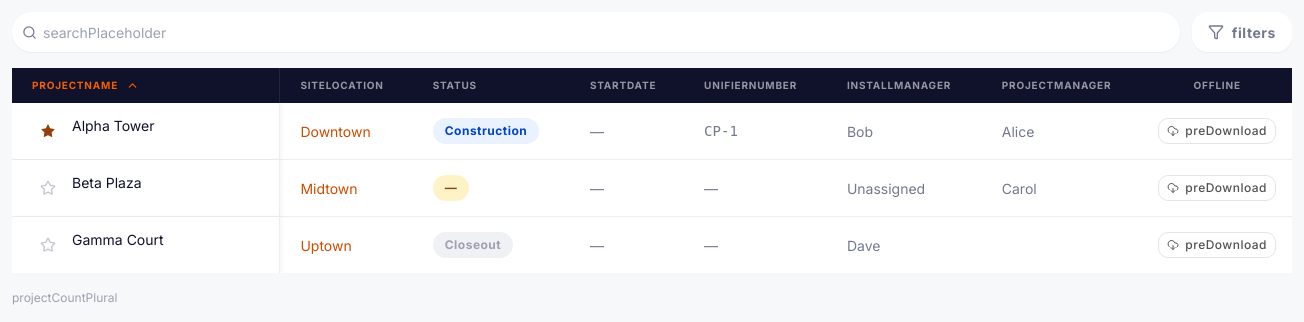
Test: ProjectsTable › renders empty state when no projects match the search
In the search field with placeholder "searchPlaceholder": point(605, 32) [43,22,1168,42], type "ZZZNOMATCH"
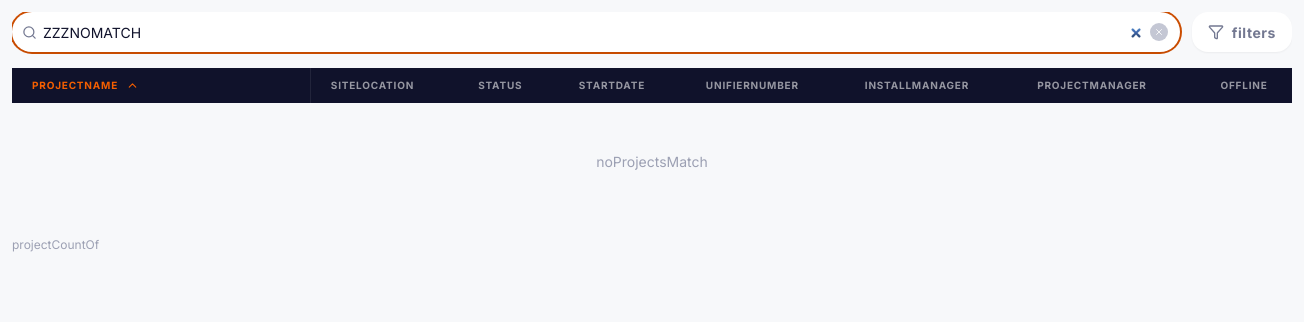
Check: the link "Alpha Tower" is gone
Check: the link "Beta Plaza" is gone
